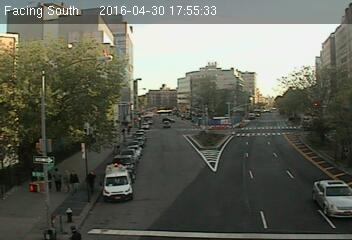neg: (323, 181, 340, 204), (323, 41, 339, 63), (22, 176, 38, 197), (158, 78, 173, 98), (252, 36, 266, 56), (121, 41, 135, 60), (306, 97, 319, 115), (65, 205, 78, 222), (164, 160, 177, 177), (86, 88, 99, 105), (160, 118, 171, 133), (100, 50, 111, 65), (200, 132, 210, 145), (219, 74, 228, 86), (250, 113, 258, 124)
pos: (78, 168, 100, 198), (55, 165, 77, 194), (65, 166, 86, 194), (46, 164, 66, 191), (68, 223, 79, 237), (124, 125, 133, 137), (120, 127, 127, 137)
